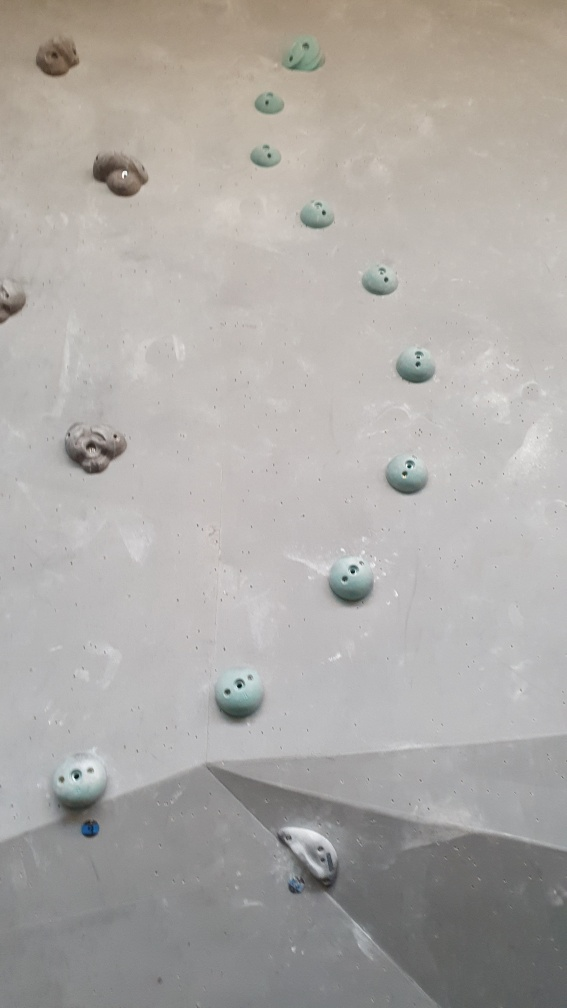Hand Start: (77, 817, 105, 841), (287, 870, 310, 896)
Jug: (58, 421, 135, 478), (90, 149, 153, 197)
Sloper: (47, 747, 112, 814), (207, 657, 270, 723), (325, 549, 378, 607), (384, 450, 434, 497), (391, 345, 439, 382), (298, 196, 336, 236), (362, 262, 403, 297), (247, 141, 290, 170), (256, 87, 289, 117)
